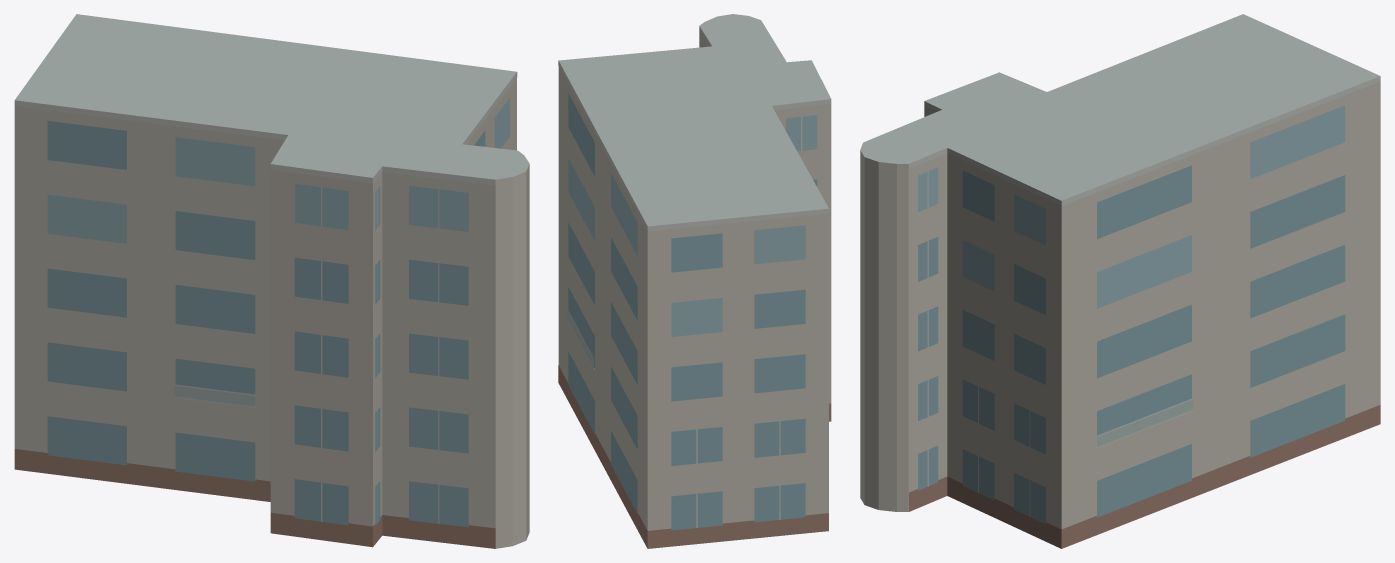
Rendered from survey-upis-32972489.glb.
3 renders of one model, left to right at view 1: azimuth 30°, elevation 25°; view 2: azimuth 150°, elevation 25°; view 3: azimuth 270°, elevation 25°, orthographic. The views are drawn at different scales.
Visible parts, largest first — view 1: survey-upis-32972489.tmp; view 2: survey-upis-32972489.tmp; view 3: survey-upis-32972489.tmp.
Part boxes in pixels (<box>): survey-upis-32972489.tmp: <box>14,14,529,548</box>; survey-upis-32972489.tmp: <box>558,14,831,548</box>; survey-upis-32972489.tmp: <box>860,14,1380,548</box>.
Size of the model in its own units: 18.14 by 15.75 by 21.35.
